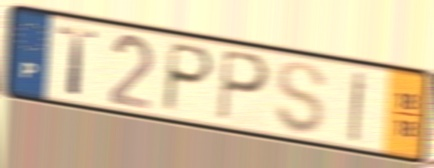2: (107, 32, 156, 114)
I: (347, 68, 369, 145)
P: (159, 39, 217, 115), (216, 47, 272, 124)
S: (272, 59, 329, 137)
T: (57, 23, 101, 99)
